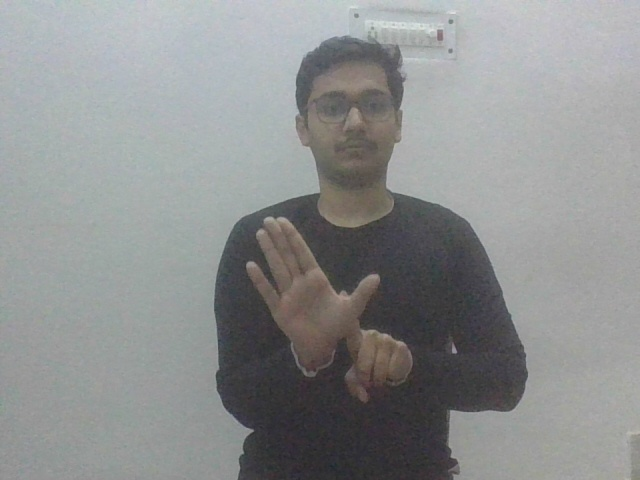Y: (245, 214, 419, 404)
